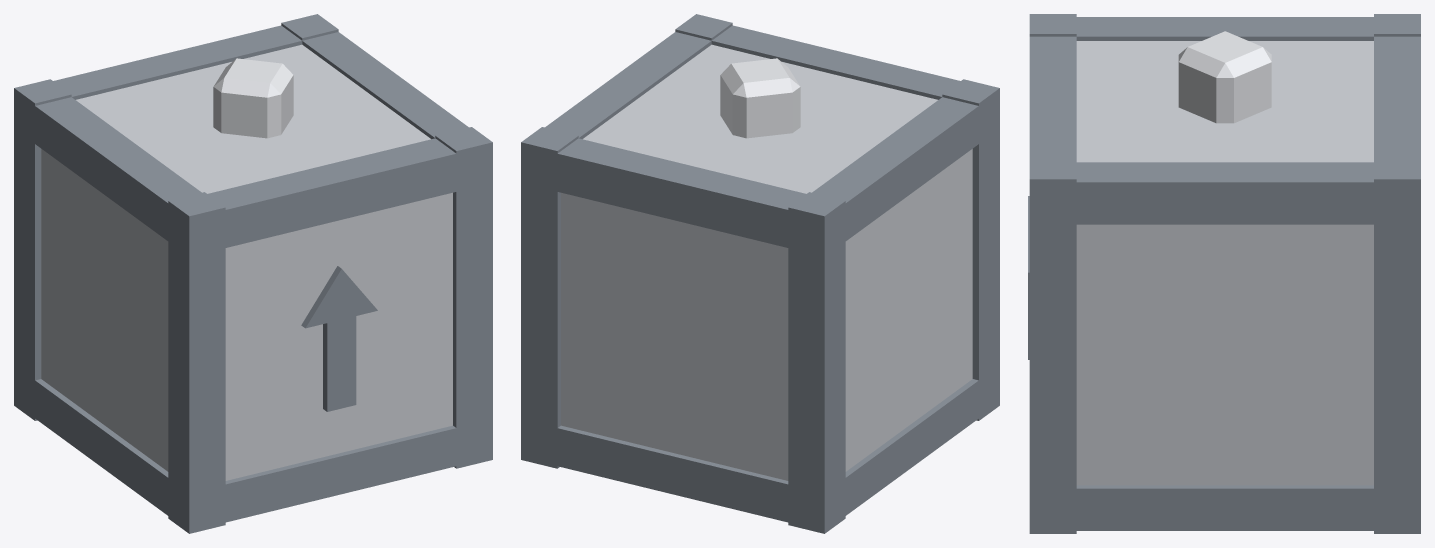
File: IronLootCrate.fbx
3 views of the same model, side by side, from view 1: azimuth 30°, elevation 25°; view 2: azimuth 150°, elevation 25°; view 3: azimuth 270°, elevation 25° (orthographic). The views are drawn at different scales.
Visible parts, largest first — view 1: IronLootCrate; view 2: IronLootCrate; view 3: IronLootCrate.
Part boxes in pixels (x1,y1,x2,y2): IronLootCrate: [14, 14, 492, 533]; IronLootCrate: [521, 14, 999, 533]; IronLootCrate: [1028, 14, 1420, 533].
Bounding box in the file's own units: 2.5 × 2.85 × 2.51.
Materials: 1 (1 with a texture image).
